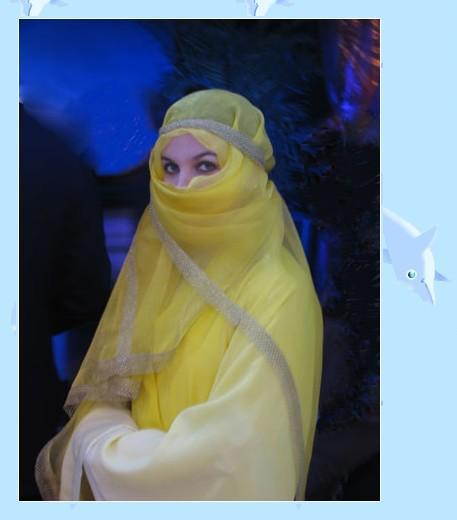WRONG: (158, 147, 234, 228)
